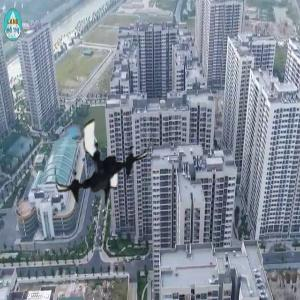drone: (51, 107, 156, 212)
